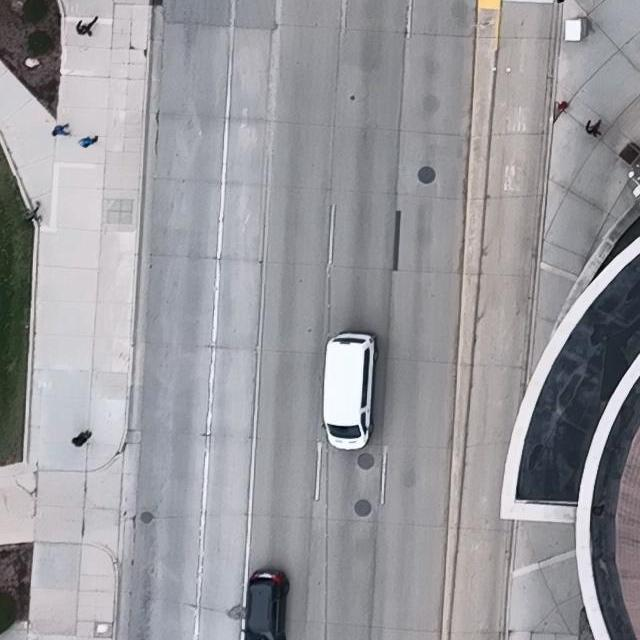car: (322, 330, 377, 451), (241, 568, 290, 640)
